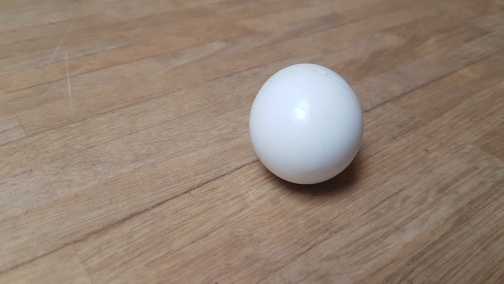egg: (246, 61, 365, 186)
